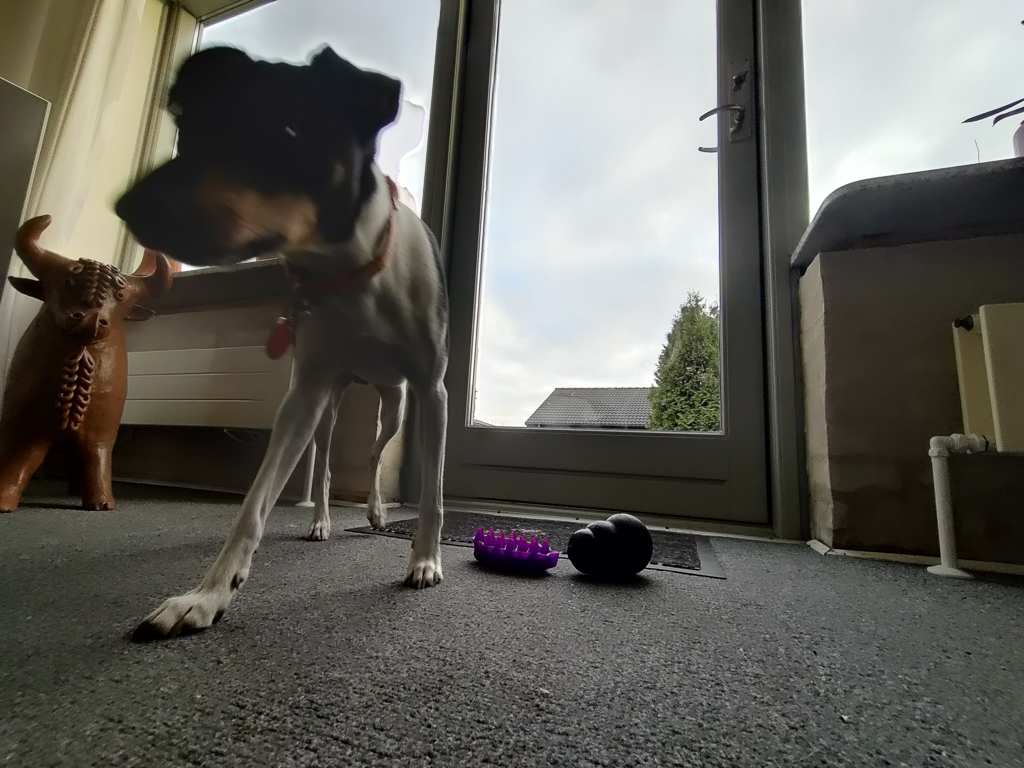Cattle: (0, 204, 183, 533)
Dog: (106, 29, 467, 663)
Humanoid: (127, 229, 183, 278)
